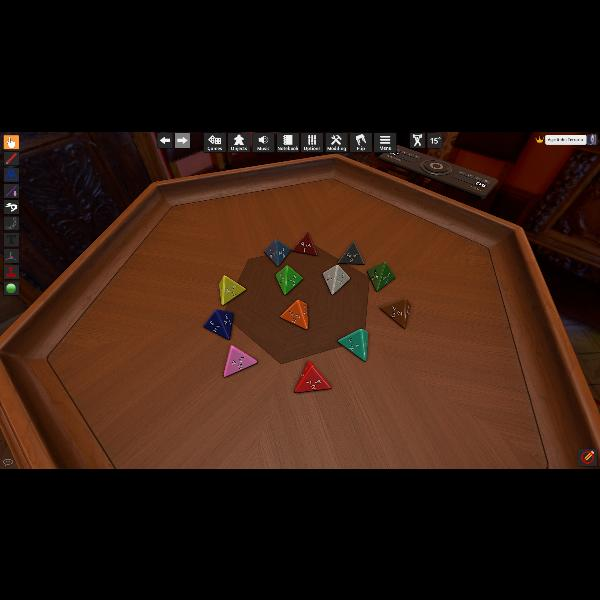d4: (295, 361, 331, 392), (223, 344, 257, 376), (338, 328, 368, 361), (204, 308, 232, 340), (280, 300, 308, 330), (321, 264, 349, 294), (276, 264, 302, 296), (219, 274, 245, 306), (264, 238, 290, 268), (382, 298, 408, 328), (367, 262, 393, 290), (338, 240, 364, 264), (291, 232, 317, 256)
